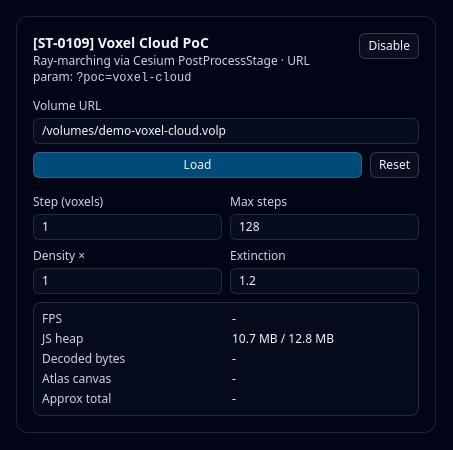
Test case: VoxelCloudPocPage › aborts the in-flight load when Reset is clicked
Expected: the text "[ST-0109] Voxel Cloud PoC" is shown, x1=33 y1=33 x2=209 y2=52
Click the button "Load": (197, 165) x1=33 y1=152 x2=362 y2=178
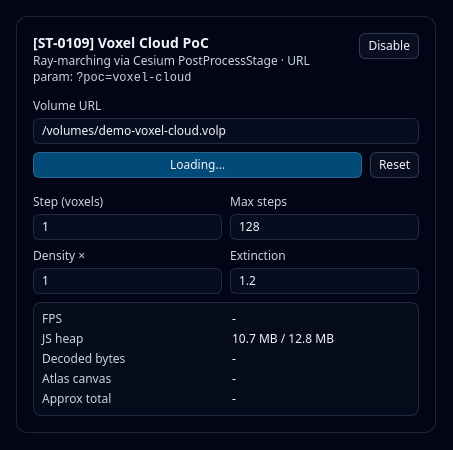
Click the button "Reset": (394, 165) x1=370 y1=152 x2=419 y2=178
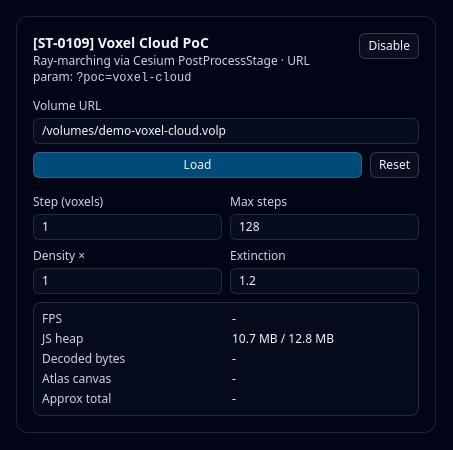
Result: the button "Load" is enabled at x1=33 y1=152 x2=362 y2=178
